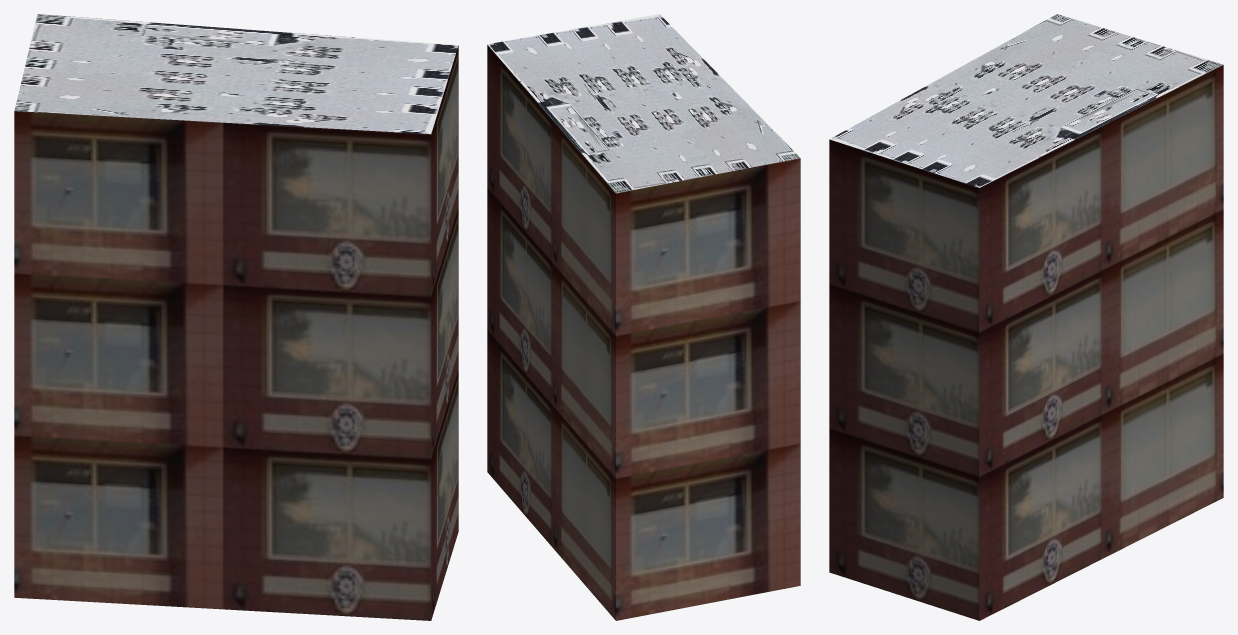
File: ResTex__4695.fbx
The picture shows the model from 3 angles, left to right: view 1: azimuth 30°, elevation 25°; view 2: azimuth 150°, elevation 25°; view 3: azimuth 270°, elevation 25°; orthographic projection. The views are drawn at different scales.
Parts seen in each view (by area): view 1: CityEngineMaterial_13_m, CityEngineMaterial_m; view 2: CityEngineMaterial_13_m, CityEngineMaterial_m; view 3: CityEngineMaterial_13_m, CityEngineMaterial_m.
Part boxes in pixels (x1,y1,x2,y2): CityEngineMaterial_13_m: (14,45,458,620); CityEngineMaterial_m: (14,14,458,134); CityEngineMaterial_13_m: (487,45,800,620); CityEngineMaterial_m: (487,14,800,193); CityEngineMaterial_13_m: (829,65,1223,620); CityEngineMaterial_m: (829,14,1222,187).
Bounding box in the file's own units: 7.75 × 9 × 7.43.
Materials: 2 (2 with a texture image).
